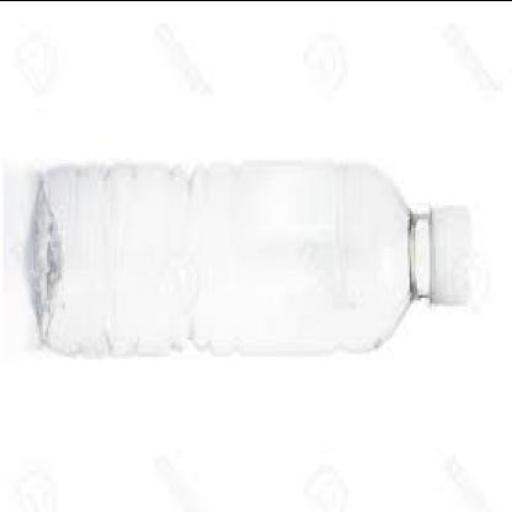plastic: (32, 157, 473, 353), (428, 199, 473, 302)
